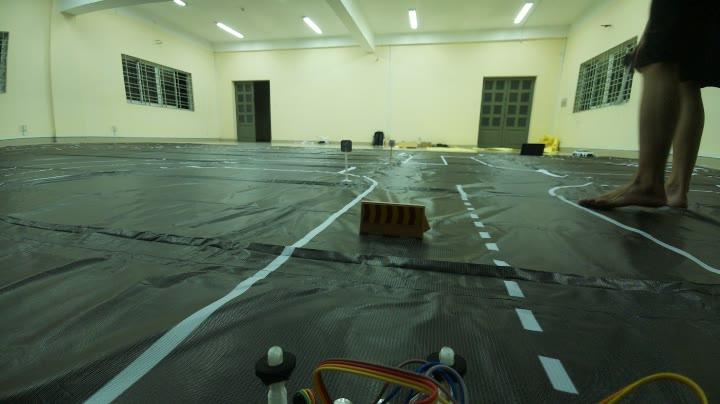roadblock: (351, 188, 439, 251)
